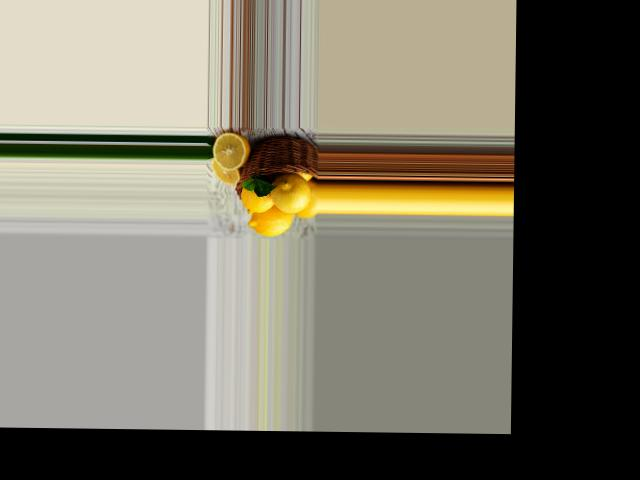lemon: (238, 176, 278, 214)
